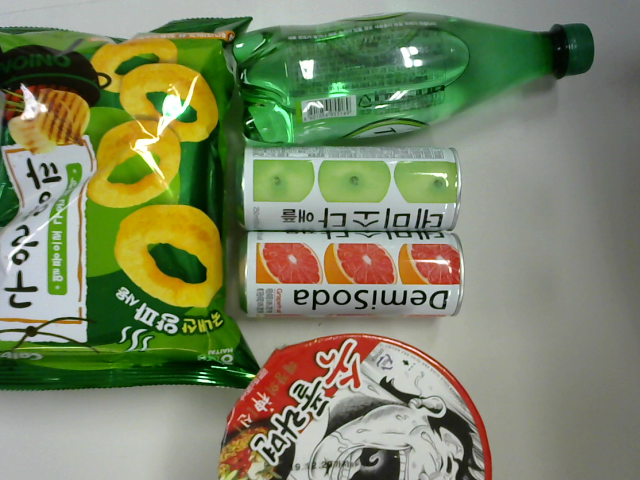Demisoda_Apple_Can_250ml: (226, 135, 477, 236)
Demisoda_Grapefruit_Can_250ml: (239, 223, 480, 328)
Grilled_Onions: (1, 15, 266, 391)
Hejangpul: (211, 329, 508, 480)
Treviraim_500ml: (213, 1, 603, 157)
